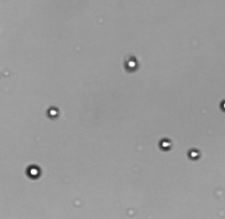Living Cell: (124, 55, 140, 70), (26, 165, 40, 179), (46, 106, 59, 118), (159, 139, 172, 150), (188, 148, 201, 159)
